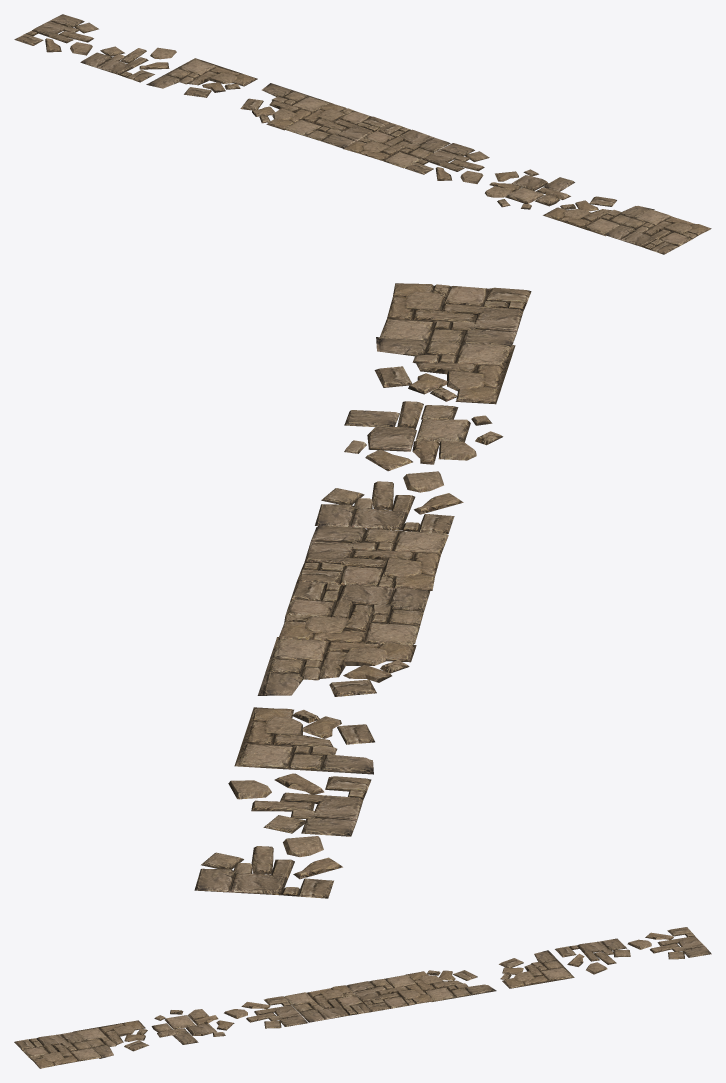
The model's file is colo3_floor_long.FBX.
3 views of the same model, one above another, from view 1: azimuth 30°, elevation 25°; view 2: azimuth 150°, elevation 25°; view 3: azimuth 270°, elevation 25° (orthographic). The views are drawn at different scales.
Visible parts, largest first — view 1: colo3_floor_long; view 2: colo3_floor_long; view 3: colo3_floor_long.
Part boxes in pixels (x1,y1,x2,y2): colo3_floor_long: (14, 14, 711, 254); colo3_floor_long: (194, 283, 531, 898); colo3_floor_long: (14, 927, 711, 1068).
Size of the model in its own units: 2243 by 24.8 by 4672.
